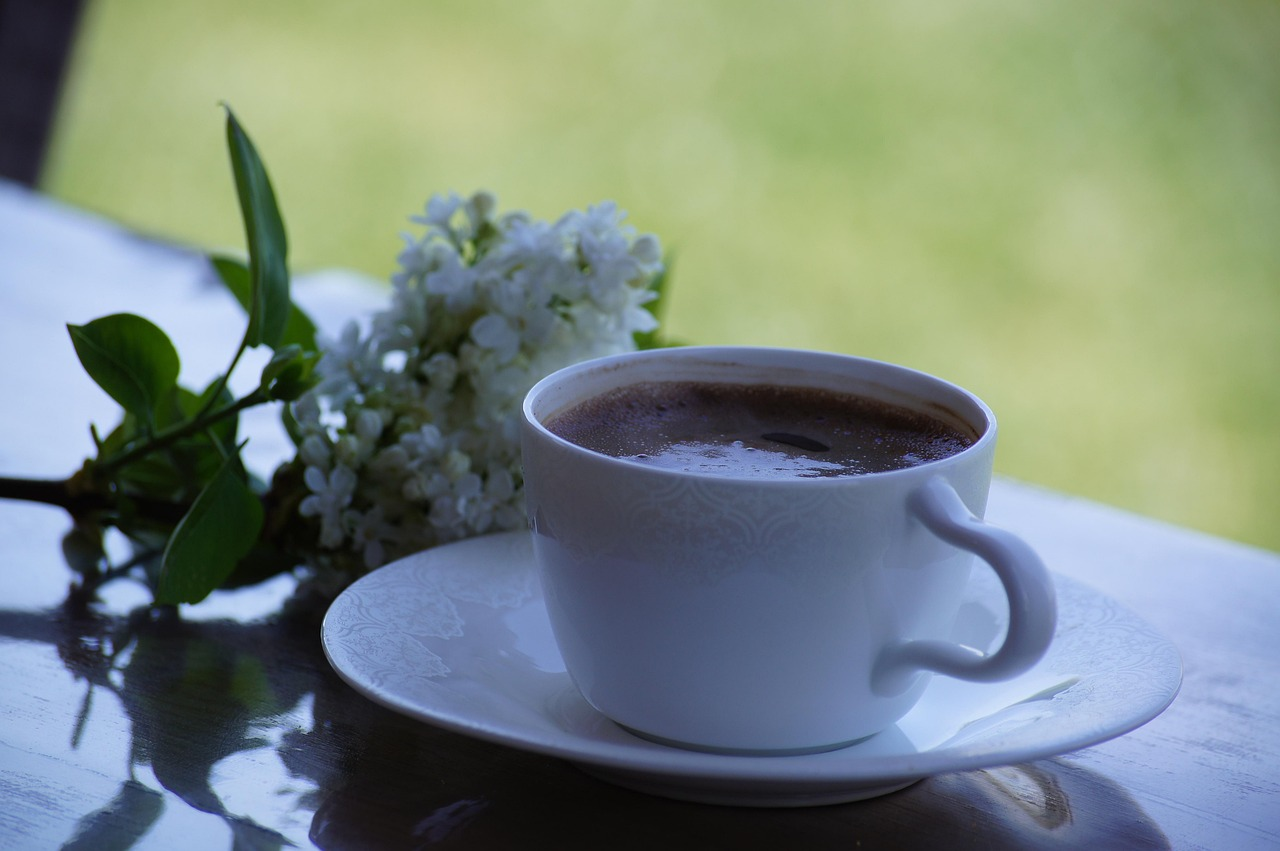mug: (532, 293, 1081, 792)
